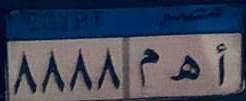8: (92, 40, 123, 98), (12, 45, 38, 96), (69, 46, 94, 96), (40, 47, 66, 92)
أ: (211, 42, 229, 89)
م: (137, 42, 160, 92)
ه: (167, 46, 202, 92)
